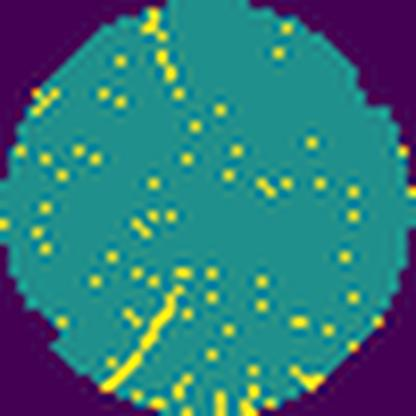Scratch: (101, 277, 189, 391)
